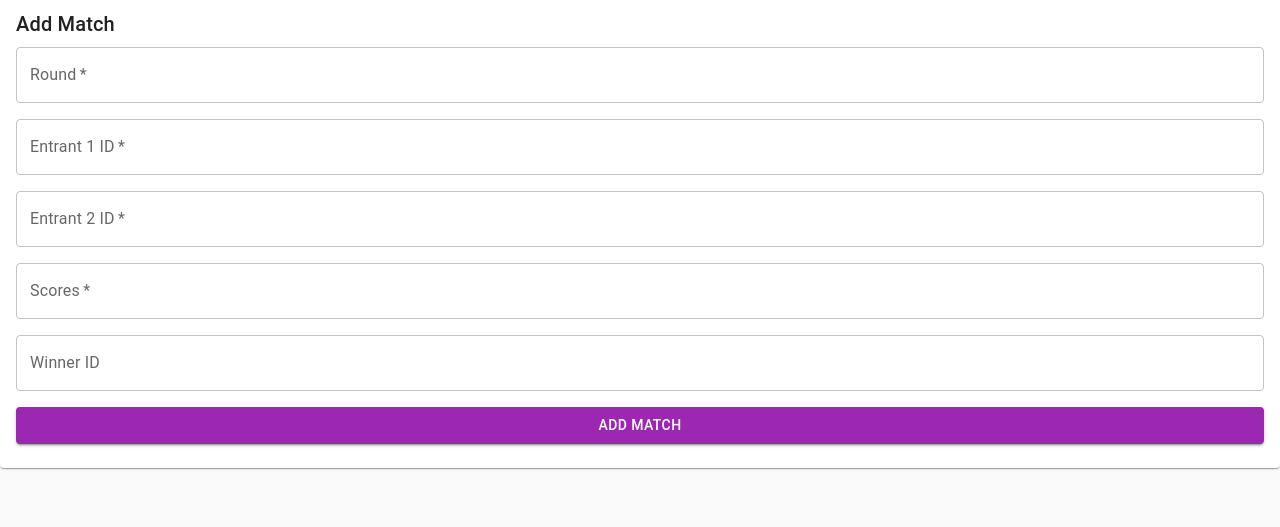
Test: MatchDashboard › shows error on API failure
This screenshot has width=1280, height=527.
Step 1. Type "1" into the field labelled "Round *" → (640, 75), box [16, 47, 1264, 103]
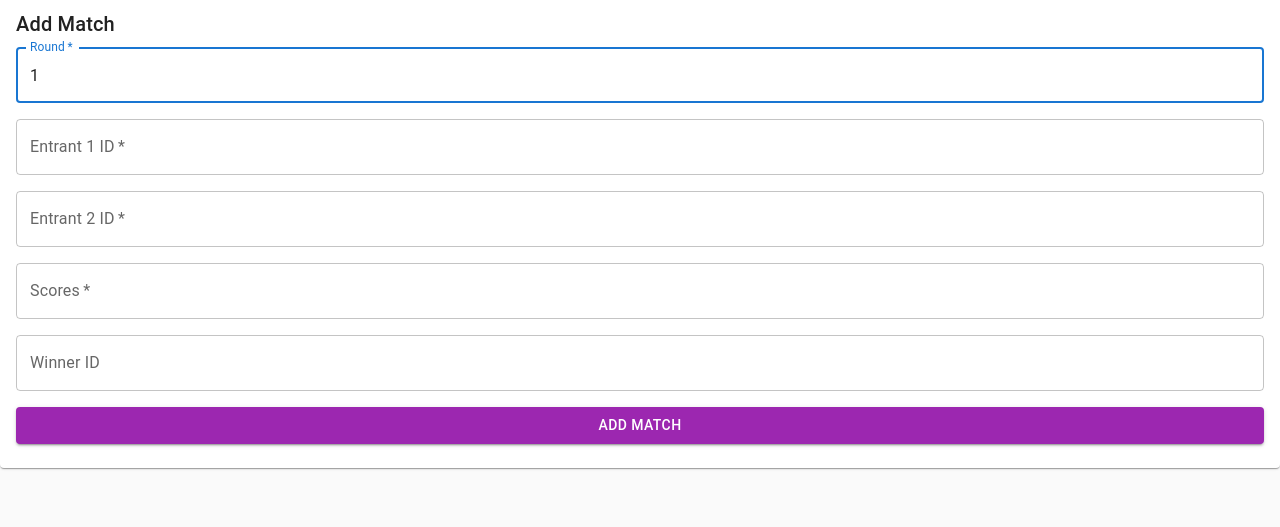
Step 2. Type "1" into the field labelled "Entrant 1 ID *" → (640, 147), box [16, 119, 1264, 175]
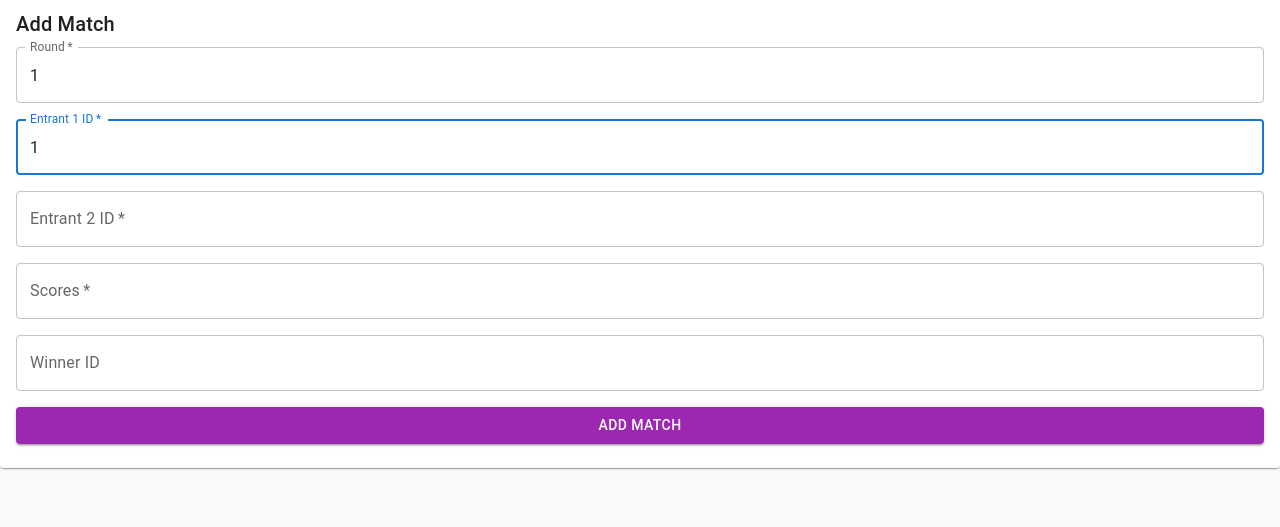
Step 3. Type "2" into the field labelled "Entrant 2 ID *" → (640, 219), box [16, 191, 1264, 247]
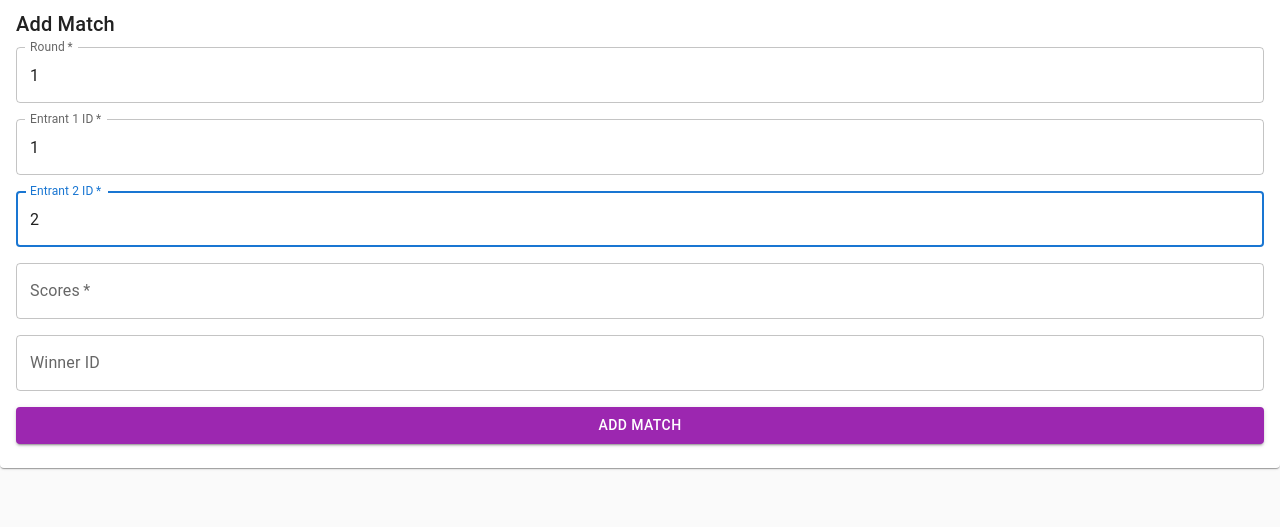
Step 4. Type "2-0" into the field labelled "Scores *" → (640, 291), box [16, 263, 1264, 319]
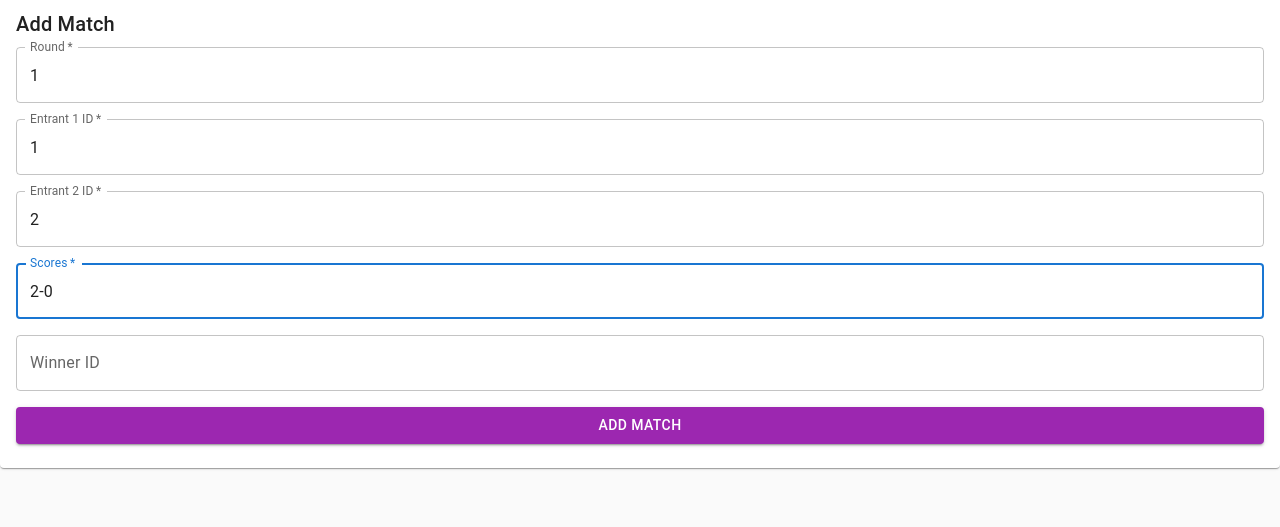
Step 5. Type "1" into the field labelled "Winner ID" → (640, 363), box [16, 335, 1264, 391]
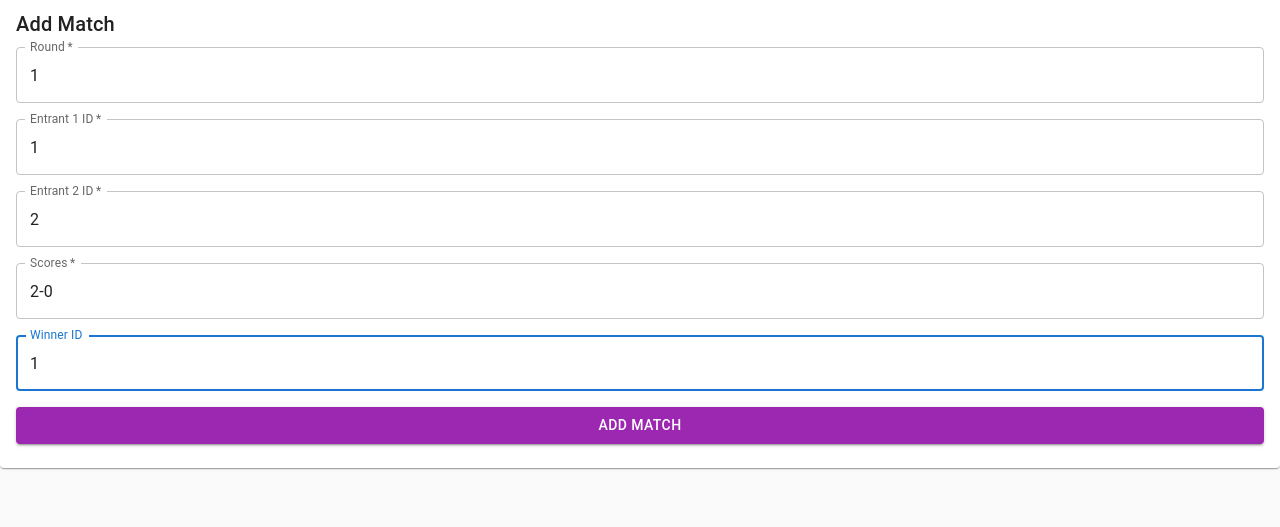
Step 6. Click the button "Add Match" → (640, 425), box [16, 407, 1264, 444]
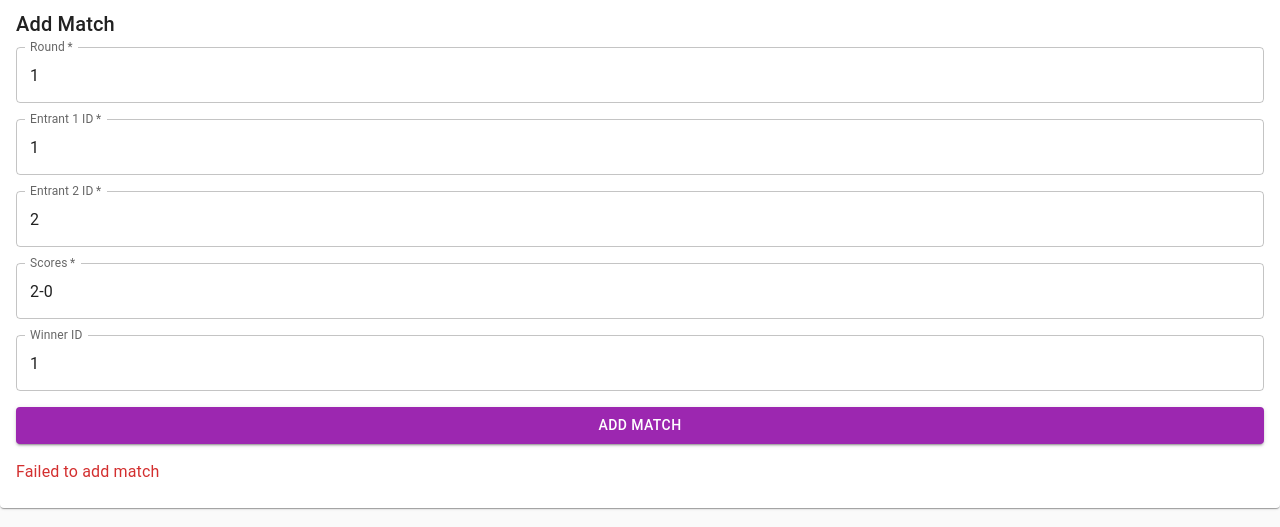
Now the message reads "Failed to add match", box [16, 462, 159, 480]
